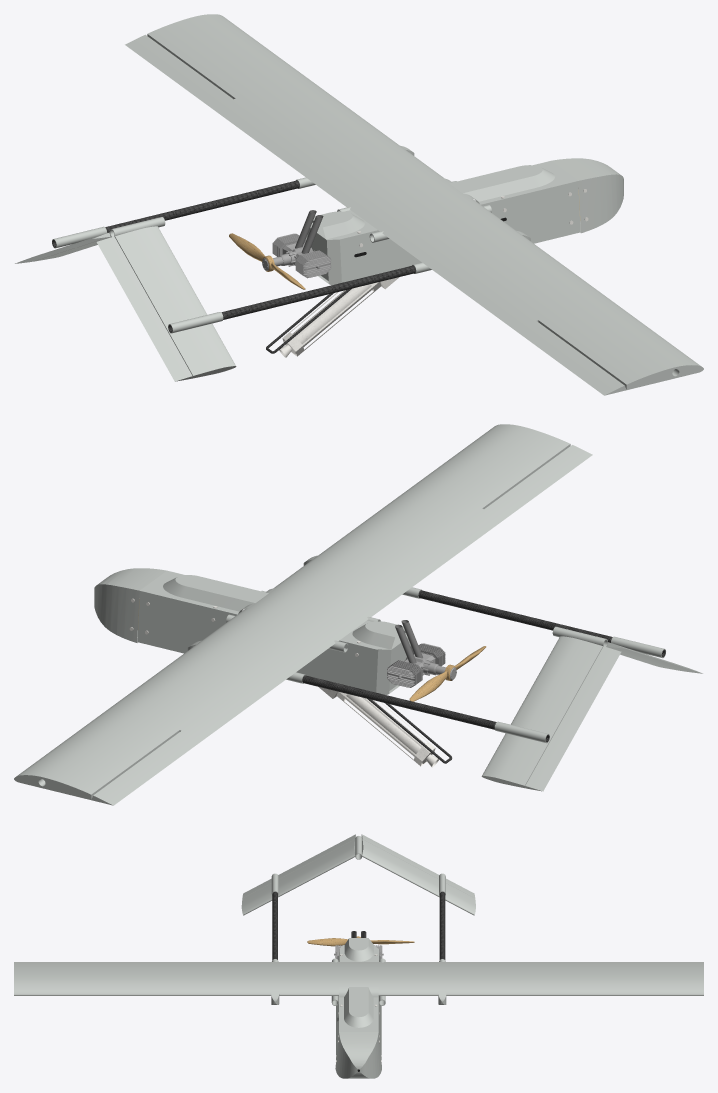
3 renders of one model, top to bottom at view 1: azimuth 30°, elevation 25°; view 2: azimuth 150°, elevation 25°; view 3: azimuth 270°, elevation 25°, orthographic. The views are drawn at different scales.
Parts seen in each view (by area): view 1: Mesh29 Group18 Model, Mesh36 Group26 Model, Mesh7 Group9 Group3 Model, Mesh62 Group54 Group49 Model, Mesh54 Group43 Group32 Model, Mesh67 Group60 Group57 Model, Mesh30 Group20 Group19 Model, Mesh58 Group50 Group49 Model, Mesh64 Group56 Group49 Model, Mesh70 Group64 Group61 Model, Mesh40 Group29 Group27 Model, Mesh38 Group30 Group29 Group27 Model (+3 smaller); view 2: Mesh36 Group26 Model, Mesh29 Group18 Model, Mesh7 Group9 Group3 Model, Mesh61 Group53 Group49 Model, Mesh54 Group43 Group32 Model, Mesh67 Group60 Group57 Model, Mesh30 Group20 Group19 Model, Mesh64 Group56 Group49 Model, Mesh58 Group50 Group49 Model, Mesh70 Group64 Group61 Model, Mesh40 Group29 Group27 Model, Mesh38 Group30 Group29 Group27 Model (+2 smaller); view 3: Mesh29 Group18 Model, Mesh36 Group26 Model, Mesh7 Group9 Group3 Model, Mesh62 Group54 Group49 Model, Mesh61 Group53 Group49 Model, Mesh30 Group20 Group19 Model, Mesh67 Group60 Group57 Model, Mesh70 Group64 Group61 Model, Mesh64 Group56 Group49 Model, Mesh58 Group50 Group49 Model.
Boxes of the visible parts, x1,y1,x2,y2 form: Mesh29 Group18 Model: (429, 236, 703, 395); Mesh36 Group26 Model: (125, 14, 396, 173); Mesh7 Group9 Group3 Model: (301, 143, 525, 266); Mesh62 Group54 Group49 Model: (96, 226, 236, 381); Mesh54 Group43 Group32 Model: (305, 188, 580, 285); Mesh67 Group60 Group57 Model: (442, 161, 578, 208); Mesh30 Group20 Group19 Model: (551, 158, 623, 233); Mesh58 Group50 Group49 Model: (168, 265, 415, 332); Mesh64 Group56 Group49 Model: (52, 180, 299, 247); Mesh70 Group64 Group61 Model: (312, 210, 377, 245); Mesh40 Group29 Group27 Model: (284, 284, 373, 353); Mesh38 Group30 Group29 Group27 Model: (282, 282, 381, 356); Mesh36 Group26 Model: (14, 646, 288, 805); Mesh29 Group18 Model: (321, 424, 592, 583); Mesh7 Group9 Group3 Model: (192, 552, 416, 676); Mesh61 Group53 Group49 Model: (481, 636, 621, 791); Mesh54 Group43 Group32 Model: (137, 597, 412, 694); Mesh67 Group60 Group57 Model: (139, 570, 275, 618); Mesh30 Group20 Group19 Model: (94, 568, 166, 642); Mesh64 Group56 Group49 Model: (302, 675, 549, 742); Mesh58 Group50 Group49 Model: (418, 590, 665, 657); Mesh70 Group64 Group61 Model: (339, 620, 405, 656); Mesh40 Group29 Group27 Model: (345, 694, 433, 763); Mesh38 Group30 Group29 Group27 Model: (336, 691, 435, 766); Mesh29 Group18 Model: (14, 962, 266, 995); Mesh36 Group26 Model: (451, 962, 703, 995); Mesh7 Group9 Group3 Model: (266, 962, 450, 995); Mesh62 Group54 Group49 Model: (241, 834, 355, 915); Mesh61 Group53 Group49 Model: (361, 834, 475, 915); Mesh30 Group20 Group19 Model: (335, 1032, 381, 1078); Mesh67 Group60 Group57 Model: (338, 987, 378, 1033); Mesh70 Group64 Group61 Model: (339, 938, 379, 961); Mesh64 Group56 Group49 Model: (439, 892, 445, 959); Mesh58 Group50 Group49 Model: (272, 892, 277, 959).
Size of the model in its own units: 3814 by 1173 by 5997.
